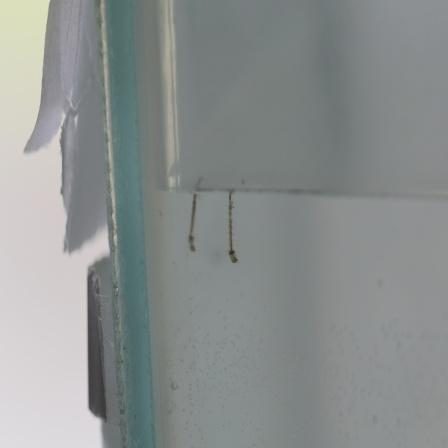Jentik-Nyamuk: (222, 187, 245, 267), (184, 190, 202, 258)
